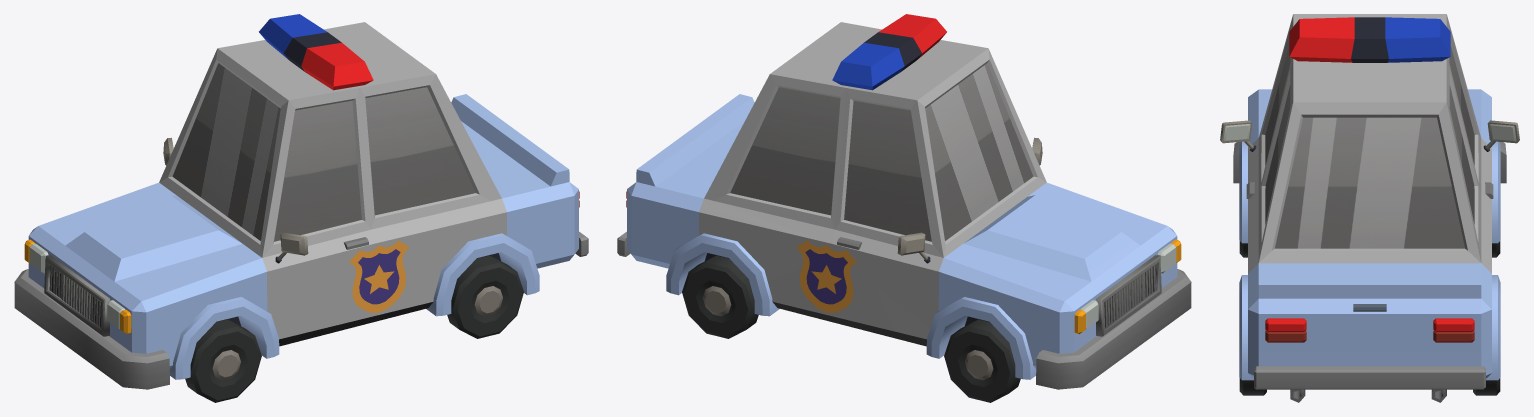
The model's file is Car_Police_1_B_2.fbx.
3 renders of one model, left to right at view 1: azimuth 30°, elevation 25°; view 2: azimuth 150°, elevation 25°; view 3: azimuth 270°, elevation 25°, orthographic. The views are drawn at different scales.
Visible parts, largest first — view 1: Car_Police_1_B_2, RL, FL; view 2: Car_Police_1_B_2, RR, FR; view 3: Car_Police_1_B_2, RL, RR.
Part boxes in pixels (bbox=[...]): Car_Police_1_B_2: bbox=[14, 14, 588, 389]; RL: bbox=[447, 255, 523, 338]; FL: bbox=[185, 319, 261, 402]; Car_Police_1_B_2: bbox=[617, 14, 1191, 389]; RR: bbox=[682, 255, 758, 338]; FR: bbox=[944, 319, 1020, 402]; Car_Police_1_B_2: bbox=[1220, 14, 1519, 402]; RL: bbox=[1239, 378, 1266, 395]; RR: bbox=[1473, 378, 1500, 395].
Bounding box in the file's own units: 346 × 199 × 178.
